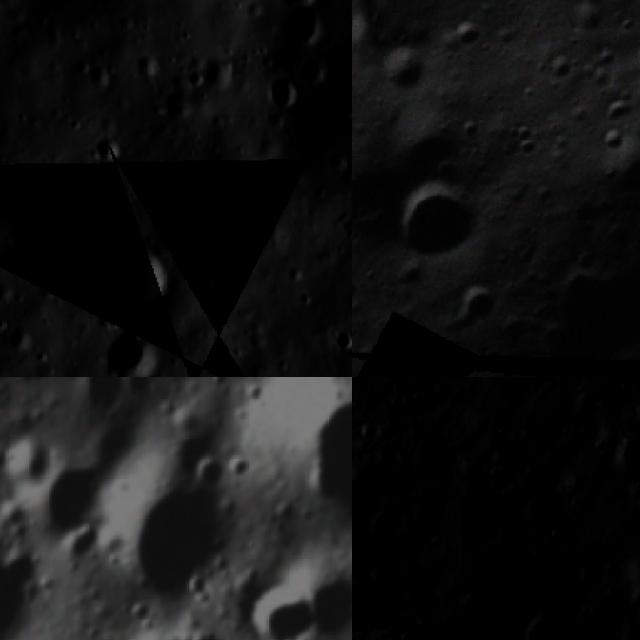crater: (517, 83, 640, 377), (101, 446, 261, 625), (371, 150, 502, 283), (264, 377, 352, 548), (3, 438, 121, 553), (352, 26, 445, 121), (352, 139, 423, 244), (0, 530, 54, 640), (239, 572, 325, 640), (436, 272, 508, 343), (100, 242, 172, 307), (65, 377, 136, 432), (1, 432, 63, 490), (187, 439, 238, 495), (111, 322, 162, 375), (316, 51, 352, 125), (352, 566, 394, 628), (266, 5, 332, 41), (618, 22, 640, 109), (573, 557, 615, 596), (80, 53, 114, 99), (268, 67, 304, 110), (614, 433, 640, 492), (94, 129, 136, 163), (516, 614, 568, 640), (443, 0, 514, 16), (1, 377, 70, 393), (185, 620, 230, 640), (0, 193, 15, 250), (334, 323, 352, 360), (623, 623, 640, 640)
